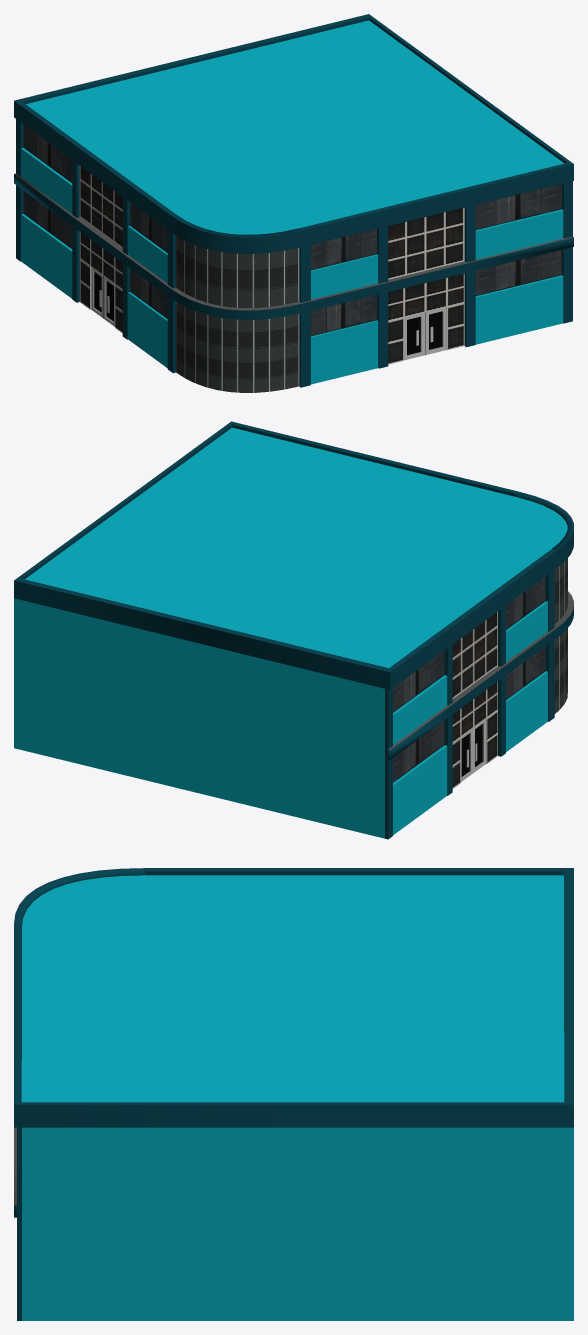
The picture shows the model from 3 angles, top to bottom: view 1: azimuth 30°, elevation 25°; view 2: azimuth 150°, elevation 25°; view 3: azimuth 270°, elevation 25°; orthographic projection. The views are drawn at different scales.
Visible parts, largest first — view 1: EB-017; view 2: EB-017; view 3: EB-017.
Part boxes in pixels (x1,y1,x2,y2): EB-017: [14, 14, 573, 392]; EB-017: [14, 421, 573, 839]; EB-017: [14, 868, 573, 1320].
Size of what is drawn, in the model's own units: 19.7 by 8.39 by 19.7.
